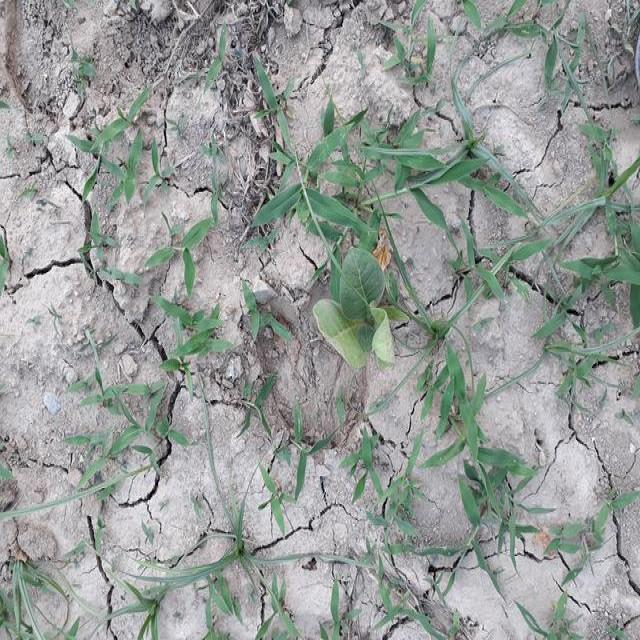crop: (306, 241, 398, 372)
